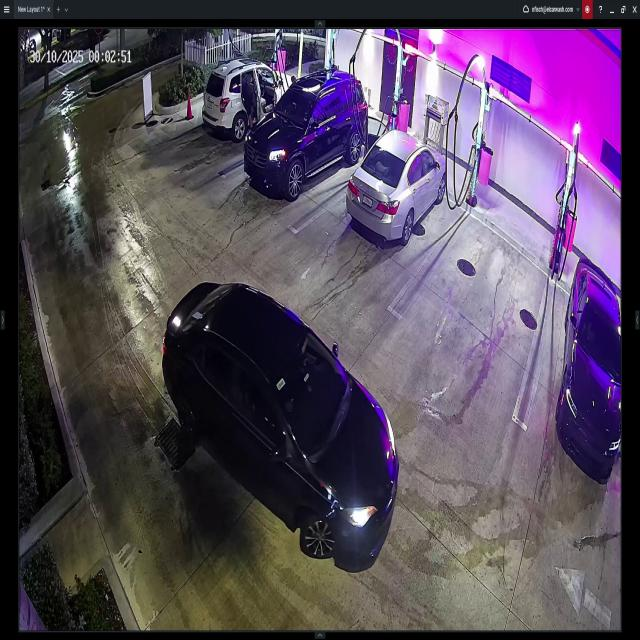Car: (160, 272, 398, 570), (554, 258, 623, 474), (249, 68, 366, 194), (346, 130, 446, 242), (201, 51, 293, 145)
